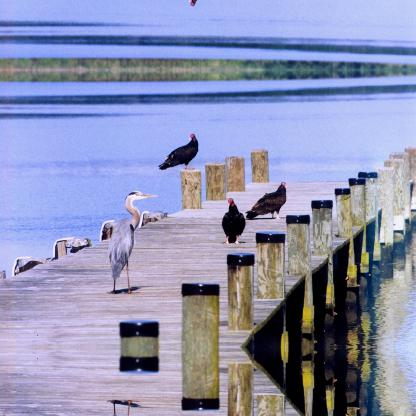Bird: (106, 188, 158, 294), (245, 180, 286, 223), (159, 132, 199, 168), (222, 195, 246, 245)
